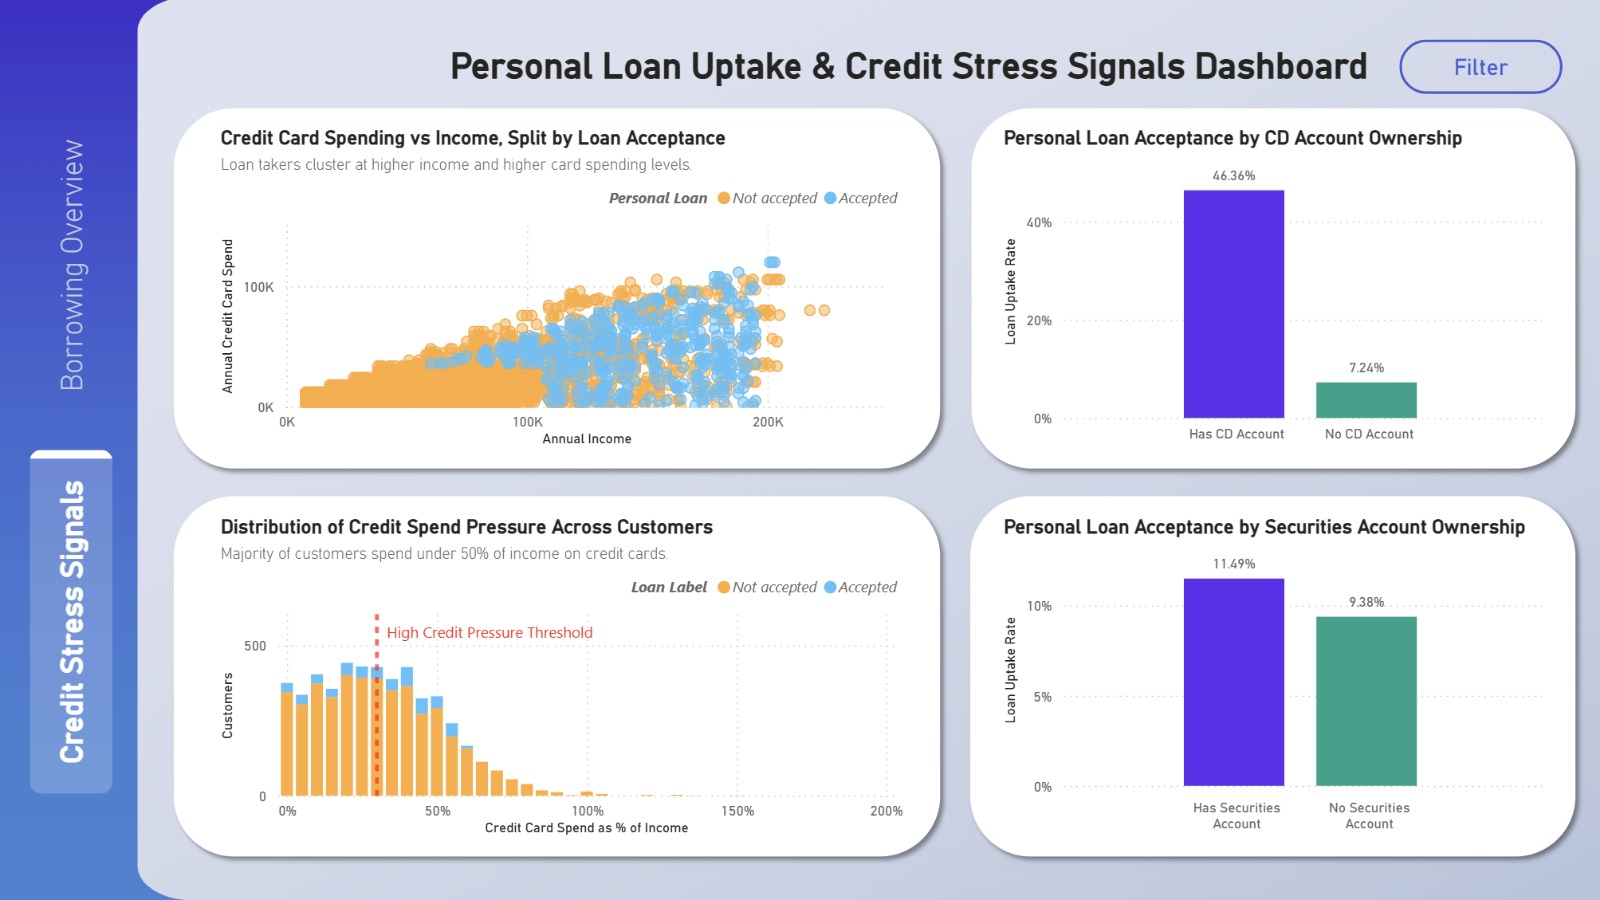

The dashboard page shown, as its layout file describes it:
{"tool":"powerbi","page":{"name":"Credit Stress Signals","canvas":[1280,720],"ordinal":1},"visuals":[{"type":"scatterChart","title":"Credit Card Spending vs Income, Split by Loan Acceptance","fields":{"X":["Bank_Personal_Loan_Modelling(1).Income Annual"],"Y":["Bank_Personal_Loan_Modelling(1).CC Yearly"],"Series":["Bank_Personal_Loan_Modelling(1).Loan Label"]},"box":[171.1,100,554.3,260],"z":0},{"type":"columnChart","title":"Distribution of Credit Spend Pressure Across Customers","fields":{"Category":["Bank_Personal_Loan_Modelling(1).CC to Income (bins)"],"Y":["Bank_Personal_Loan_Modelling(1).Customers"],"Series":["Bank_Personal_Loan_Modelling(1).Loan Label"]},"box":[171.3,409.7,554,260],"z":1000},{"type":"clusteredColumnChart","title":"Personal Loan Acceptance by CD Account Ownership","fields":{"Category":["Bank_Personal_Loan_Modelling(1).CD Account Label"],"Y":["Bank_Personal_Loan_Modelling(1).Loan Uptake Rate"]},"box":[795.7,100,438.6,260],"z":2000},{"type":"clusteredColumnChart","title":"Personal Loan Acceptance by Securities Account Ownership","fields":{"Category":["Bank_Personal_Loan_Modelling(1).Securities Label"],"Y":["Bank_Personal_Loan_Modelling(1).Loan Uptake Rate"]},"box":[795.7,410,438.6,260],"z":3000},{"type":"textbox","box":[275.7,30,898.6,54.3],"z":4000},{"type":"pageNavigator","box":[24.2,74.2,66.1,558.1],"z":5000},{"type":"actionButton","box":[1115,31.7,130,43.3],"z":7000}]}

Visuals, with their boxes in screenshot pixels (x1, y1, x2, y2), scaled from the page's 1280x720 canvas onto the 1600x900 screenshot:
"Credit Card Spending vs Income, Split by Loan Acceptance" scatterChart: (left=214, top=125, right=907, bottom=450)
"Distribution of Credit Spend Pressure Across Customers" columnChart: (left=214, top=512, right=907, bottom=837)
"Personal Loan Acceptance by CD Account Ownership" clusteredColumnChart: (left=995, top=125, right=1543, bottom=450)
"Personal Loan Acceptance by Securities Account Ownership" clusteredColumnChart: (left=995, top=512, right=1543, bottom=838)
textbox: (left=345, top=38, right=1468, bottom=105)
pageNavigator: (left=30, top=93, right=113, bottom=790)
actionButton: (left=1394, top=40, right=1556, bottom=94)
